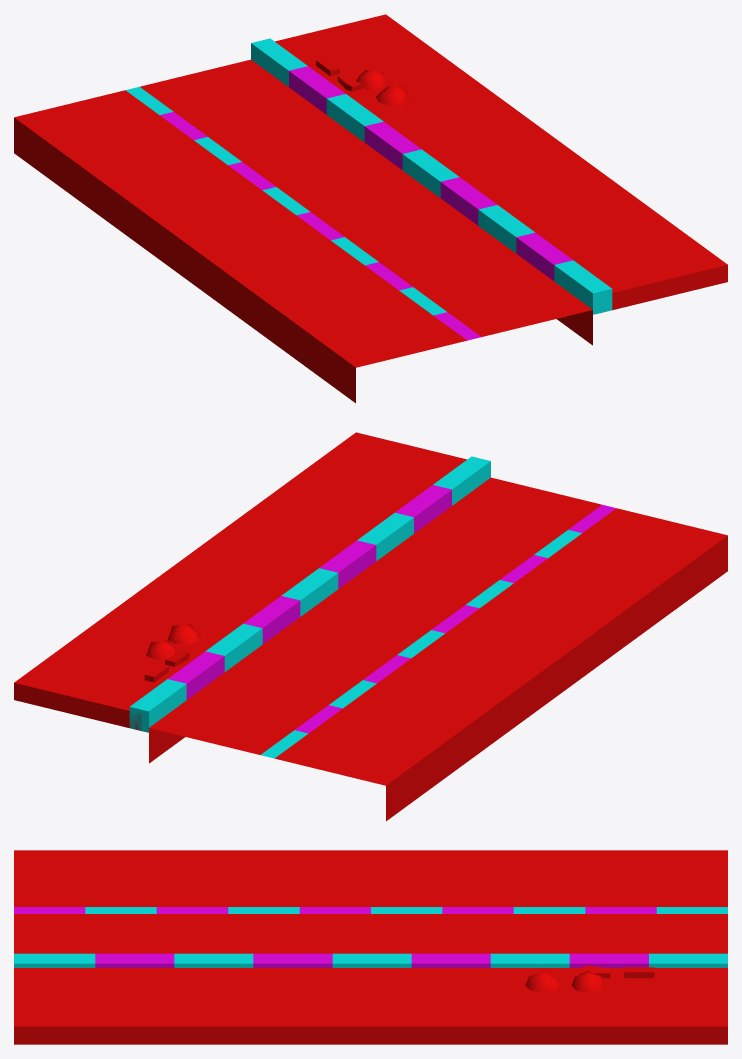
The model's file is road_fall_guy.fbx.
The picture shows the model from 3 angles, top to bottom: view 1: azimuth 30°, elevation 25°; view 2: azimuth 150°, elevation 25°; view 3: azimuth 270°, elevation 25°; orthographic projection. The views are drawn at different scales.
Visible parts, largest first — view 1: road, side_walk, side_bar; view 2: road, side_walk, side_bar; view 3: road, side_walk, side_bar, stone_02, stone01, block02.
Part boxes in pixels (left/top/right/bottom): road: left=14, top=59, right=592, bottom=403; side_walk: left=275, top=14, right=727, bottom=310; side_bar: left=251, top=38, right=612, bottom=314; road: left=149, top=477, right=727, bottom=821; side_walk: left=14, top=432, right=466, bottom=730; side_bar: left=129, top=456, right=490, bottom=732; road: left=14, top=850, right=727, bottom=953; side_walk: left=14, top=968, right=727, bottom=1044; side_bar: left=14, top=953, right=727, bottom=967; stone_02: left=525, top=971, right=560, bottom=992; stone01: left=571, top=971, right=604, bottom=992; block02: left=624, top=967, right=654, bottom=978.
Size of the model in its own units: 1255 by 199 by 2000.
